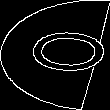O_E: (5, 30, 105, 80)
